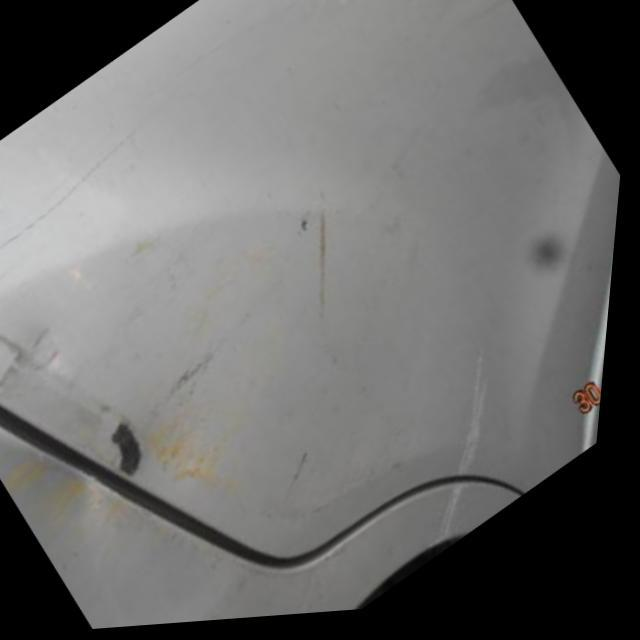rub: (0, 213, 507, 554), (120, 424, 150, 480)
